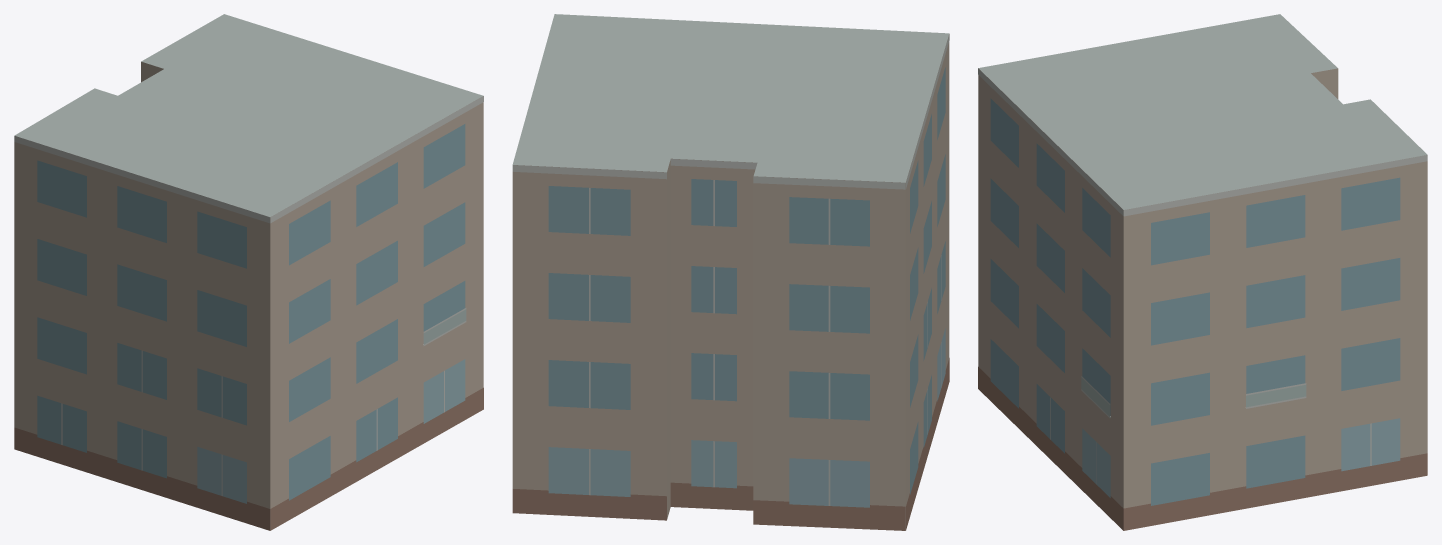
File: survey-upis-32925211.glb
3 renders of one model, left to right at view 1: azimuth 30°, elevation 25°; view 2: azimuth 150°, elevation 25°; view 3: azimuth 270°, elevation 25°, orthographic. The views are drawn at different scales.
Parts seen in each view (by area): view 1: survey-upis-32925211.tmp; view 2: survey-upis-32925211.tmp; view 3: survey-upis-32925211.tmp.
Part boxes in pixels (x1,y1,x2,y2): survey-upis-32925211.tmp: (14, 14, 483, 530); survey-upis-32925211.tmp: (512, 14, 949, 530); survey-upis-32925211.tmp: (978, 14, 1427, 530).
Bounding box in the file's own units: 16.07 × 12.25 × 15.57.
